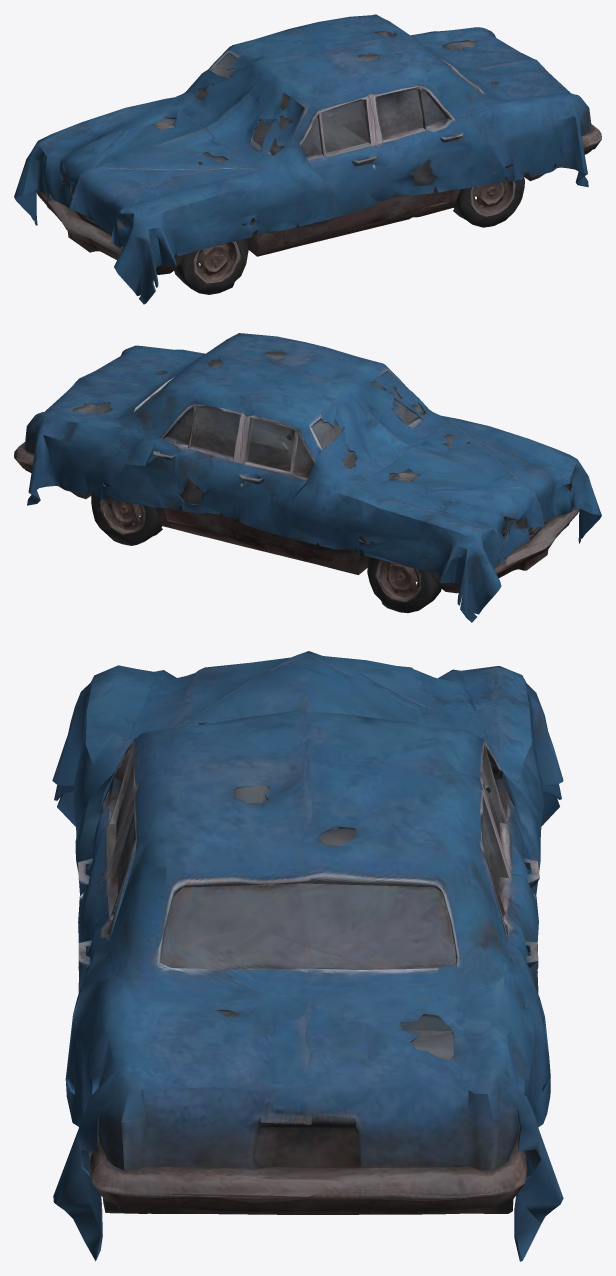
Rendered from car_old_blue_idle.glb.
3 renders of one model, top to bottom at view 1: azimuth 30°, elevation 25°; view 2: azimuth 150°, elevation 25°; view 3: azimuth 270°, elevation 25°, orthographic. The views are drawn at different scales.
Parts seen in each view (by area): view 1: tripo_node_2a6c5c25-cd83-44d8-a18f-88cfa5fcf295; view 2: tripo_node_2a6c5c25-cd83-44d8-a18f-88cfa5fcf295; view 3: tripo_node_2a6c5c25-cd83-44d8-a18f-88cfa5fcf295.
Part boxes in pixels (x1,y1,x2,y2): tripo_node_2a6c5c25-cd83-44d8-a18f-88cfa5fcf295: (14,14,601,304); tripo_node_2a6c5c25-cd83-44d8-a18f-88cfa5fcf295: (14,333,601,622); tripo_node_2a6c5c25-cd83-44d8-a18f-88cfa5fcf295: (52,651,563,1261).
Size of the model in its own units: 4.7 by 1.53 by 2.11.
1 material, 1 textured.
